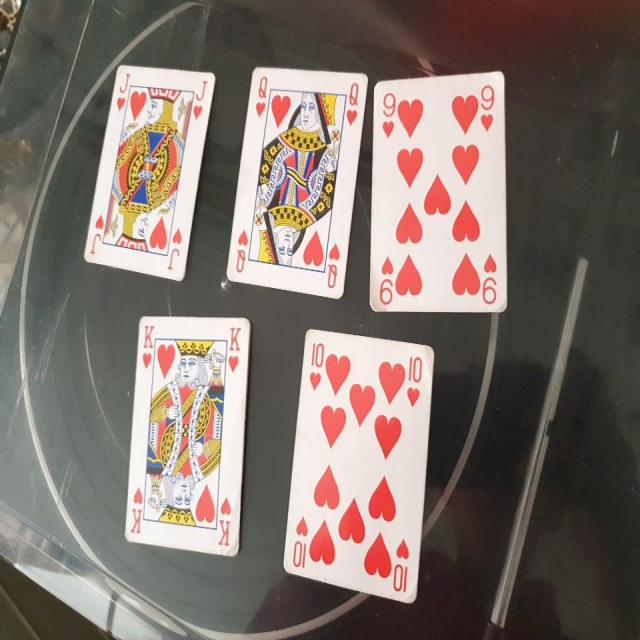10 Hearts: (278, 320, 434, 607)
9 Hearts: (366, 63, 531, 336)
J Hearts: (85, 56, 216, 285)
K Hearts: (125, 305, 257, 564)
Q Hearts: (225, 59, 370, 298)
